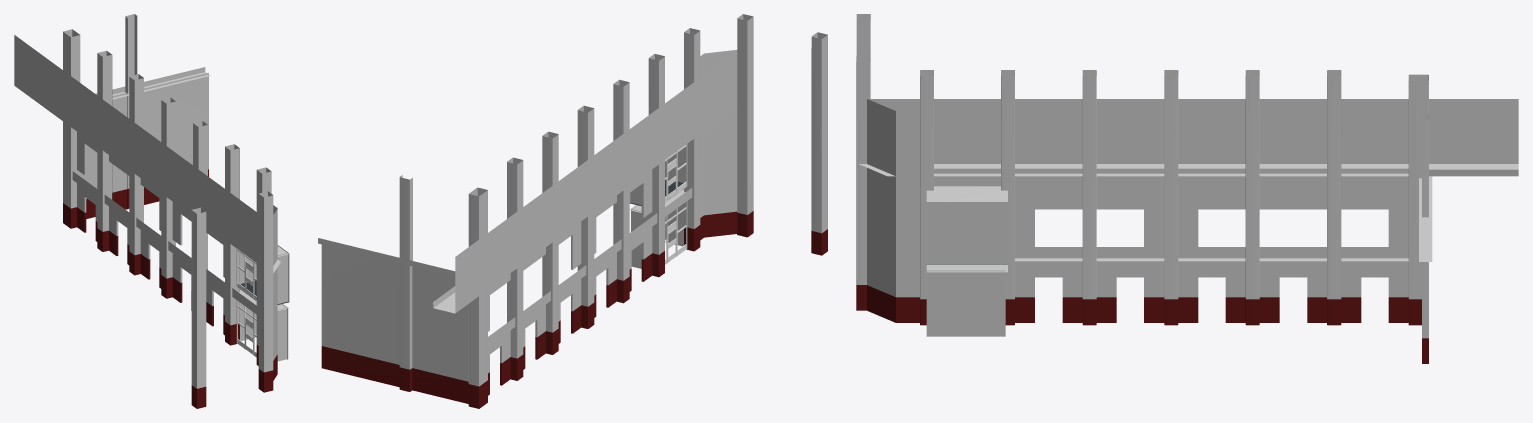
Rendered from SM_H_Building_Tide_Jail_C_05f_ATLAS.fbx.
3 renders of one model, left to right at view 1: azimuth 30°, elevation 25°; view 2: azimuth 150°, elevation 25°; view 3: azimuth 270°, elevation 25°, orthographic. The views are drawn at different scales.
Visible parts, largest first — view 1: SM_H_Building_Tide_Jail_C_05f_ATLAS; view 2: SM_H_Building_Tide_Jail_C_05f_ATLAS; view 3: SM_H_Building_Tide_Jail_C_05f_ATLAS.
Part boxes in pixels (x1,y1,x2,y2): SM_H_Building_Tide_Jail_C_05f_ATLAS: (14,14,289,408); SM_H_Building_Tide_Jail_C_05f_ATLAS: (318,14,827,408); SM_H_Building_Tide_Jail_C_05f_ATLAS: (856,14,1518,363).
Bounding box in the file's own units: 2305 × 4420 × 1835.
